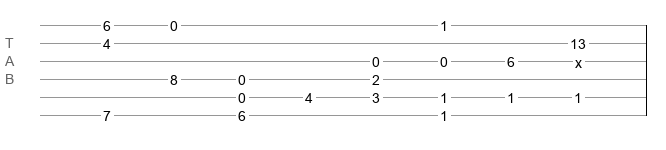0: (170, 18, 178, 28), (238, 90, 246, 100), (238, 72, 246, 82), (372, 54, 380, 64), (440, 54, 448, 64)
1: (440, 18, 448, 28), (440, 108, 448, 118), (440, 90, 448, 100), (507, 90, 515, 100), (574, 90, 582, 100)
13: (570, 36, 586, 46)
2: (372, 72, 380, 82)
3: (372, 90, 380, 100)
4: (103, 36, 111, 46), (305, 90, 313, 100)
6: (103, 18, 111, 28), (238, 108, 246, 118), (507, 54, 515, 64)
7: (103, 108, 111, 118)
8: (170, 72, 178, 82)
x: (575, 55, 582, 63)
